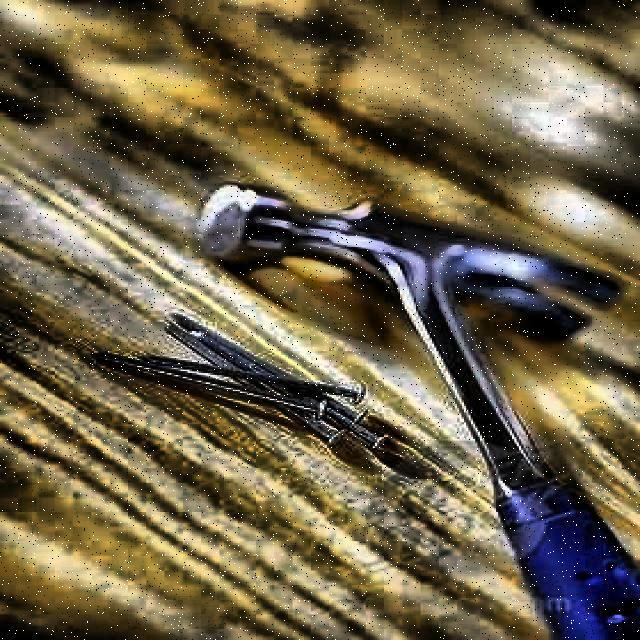hammer: (195, 181, 639, 640)
